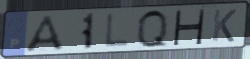1: (81, 12, 97, 52)
A: (23, 13, 68, 54)
H: (171, 9, 207, 46)
K: (210, 8, 238, 44)
L: (102, 11, 132, 49)
Q: (136, 8, 170, 50)
